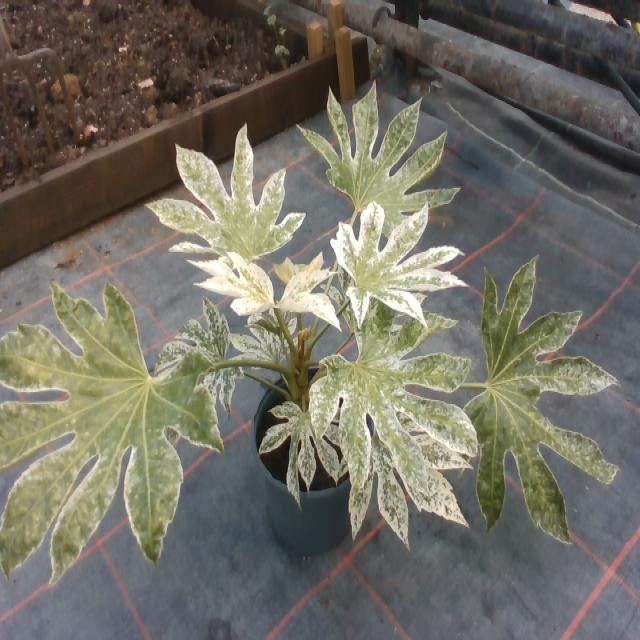Fatsia-japonica: (0, 269, 214, 556), (458, 252, 632, 571), (302, 301, 489, 484), (140, 123, 298, 280), (304, 85, 454, 241), (328, 397, 480, 546), (142, 293, 262, 422), (336, 208, 452, 325), (203, 247, 338, 330), (255, 381, 362, 484), (228, 292, 297, 358)
